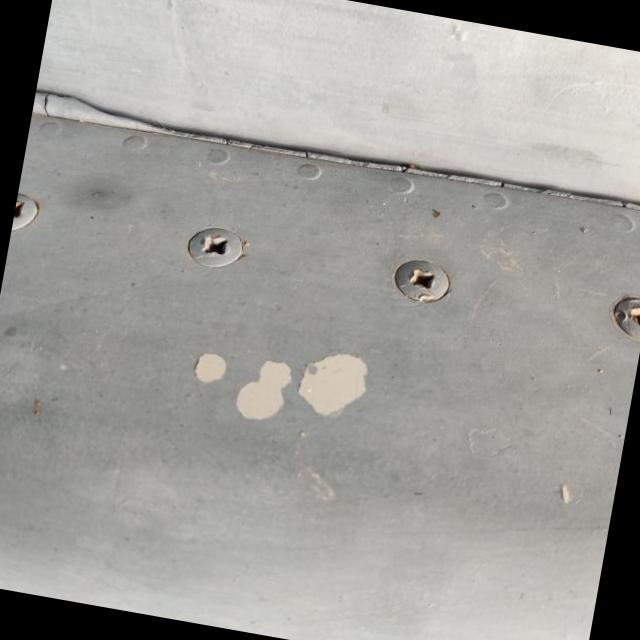Paint-off: (190, 351, 369, 426)
